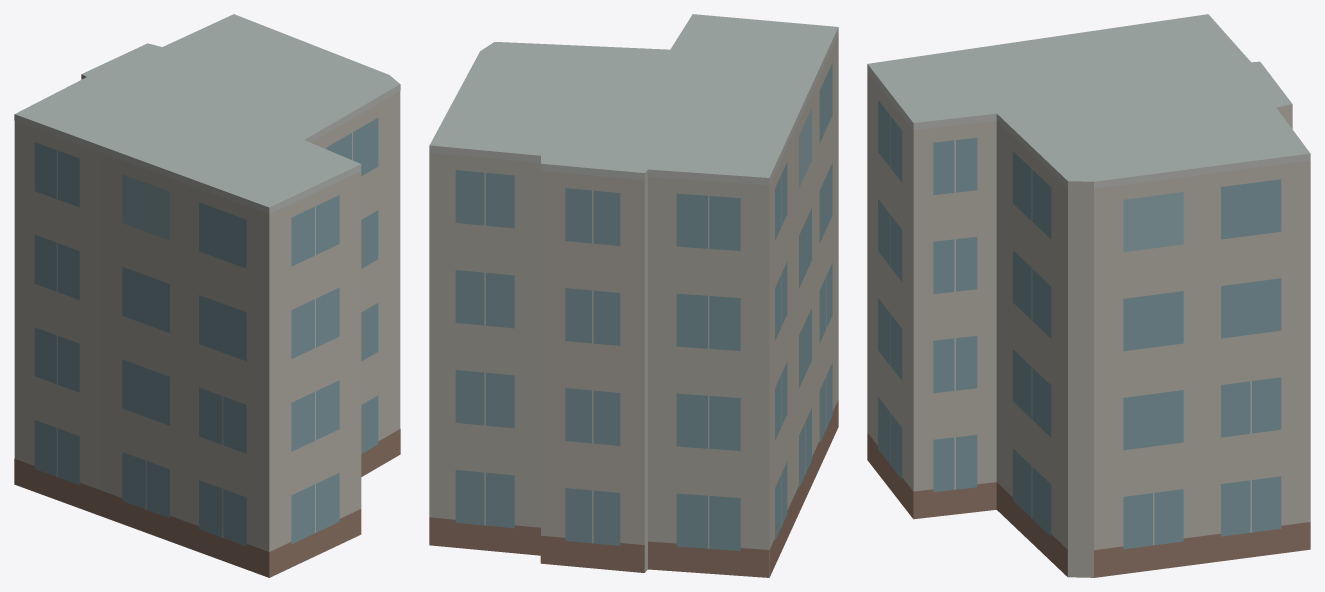
File: survey-upis-32849637.glb
The picture shows the model from 3 angles, left to right: view 1: azimuth 30°, elevation 25°; view 2: azimuth 150°, elevation 25°; view 3: azimuth 270°, elevation 25°; orthographic projection. The views are drawn at different scales.
Visible parts, largest first — view 1: survey-upis-32849637.tmp; view 2: survey-upis-32849637.tmp; view 3: survey-upis-32849637.tmp.
Part boxes in pixels (x1,y1,x2,y2): survey-upis-32849637.tmp: [14, 14, 400, 577]; survey-upis-32849637.tmp: [429, 14, 838, 577]; survey-upis-32849637.tmp: [867, 14, 1310, 577].
Bounding box in the file's own units: 12.34 × 13.58 × 13.78.
